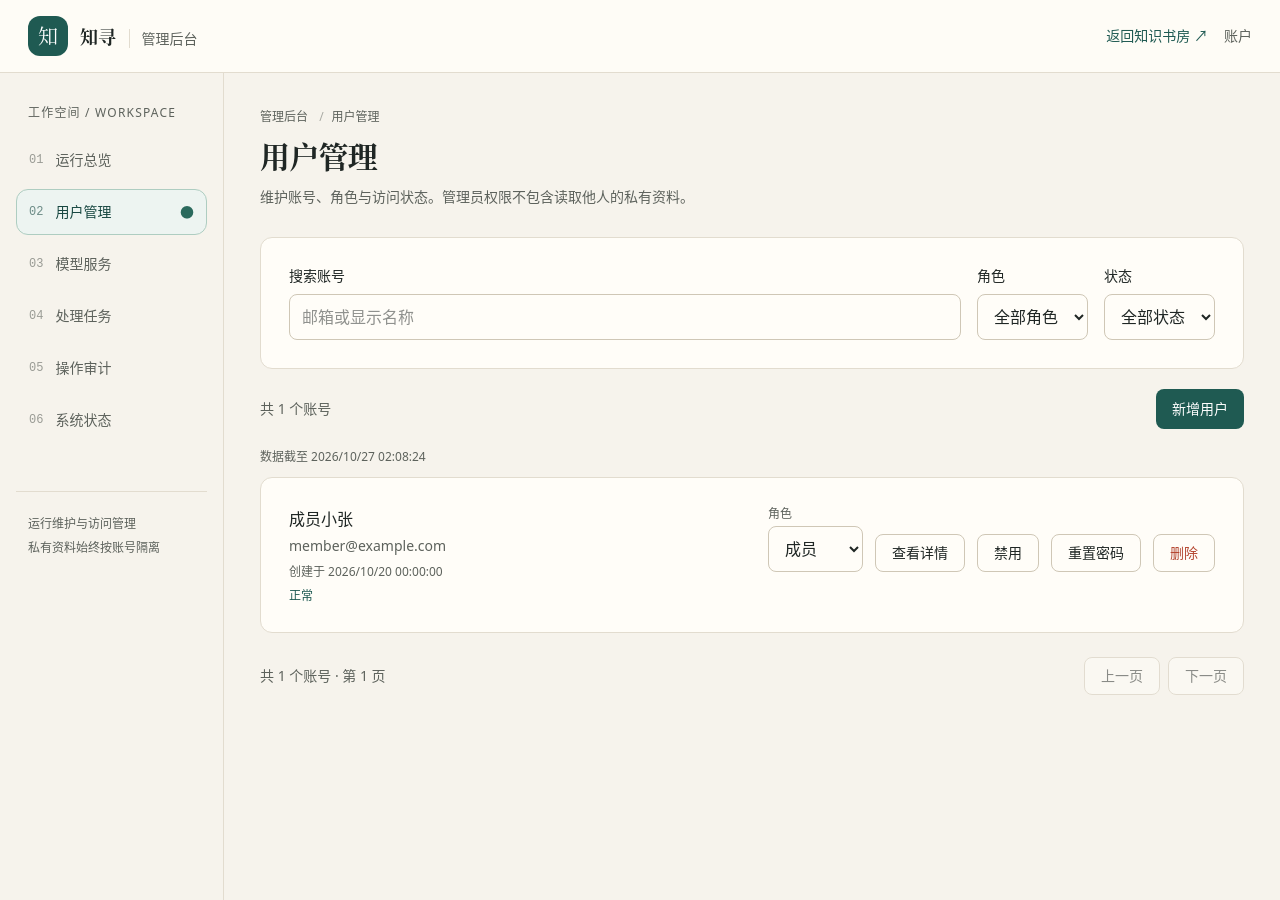
Scenario: 详情与撤销设备会话
Click the button with test id "admin-user-detail-open". click: (920, 553)
box: [875,534,965,572]
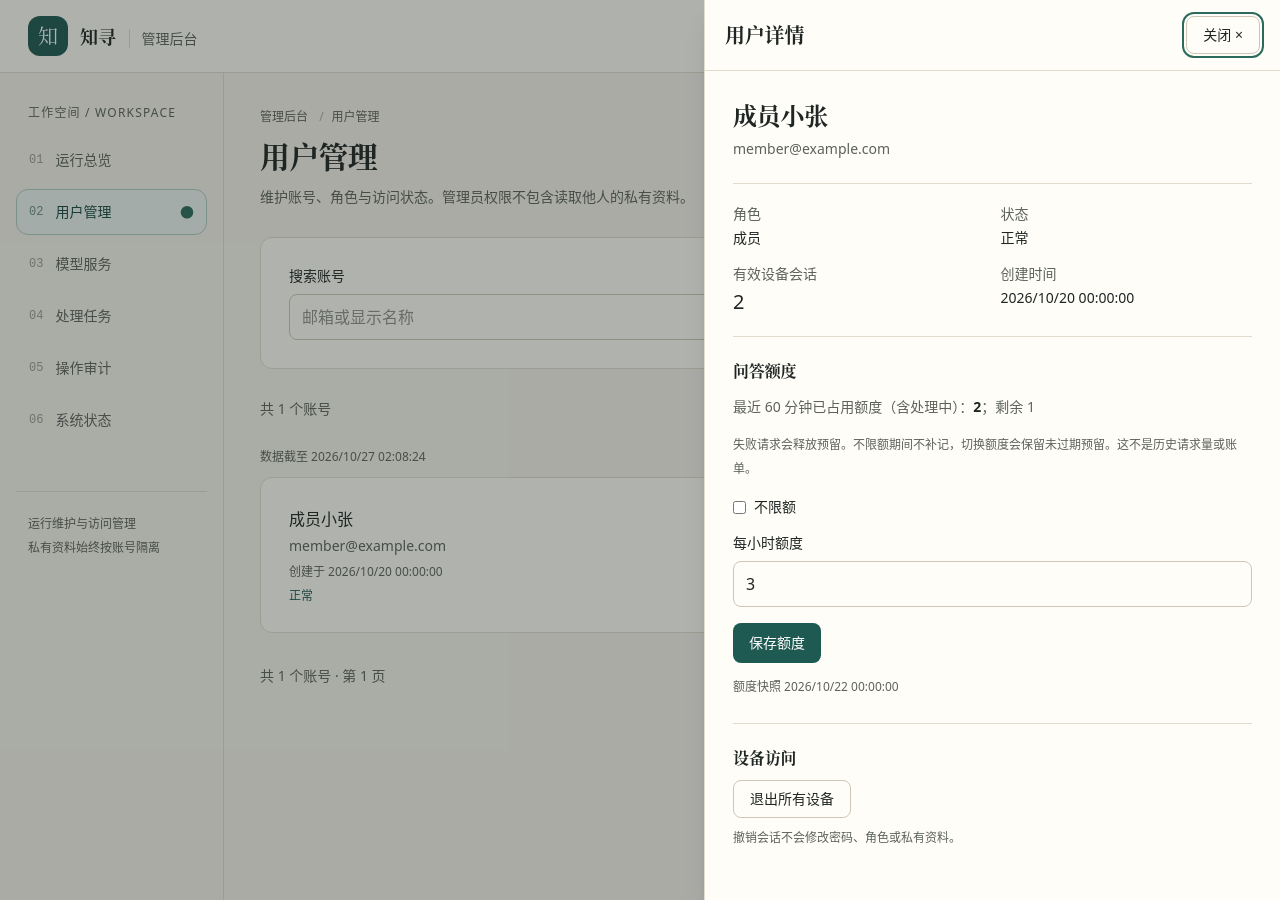
Expected: the text "已占用额度（含处理中）" is shown, [733,397,973,416]
Expected: the text with test id "admin-live-sessions" reads "2", [733,288,744,315]
Click the button with test id "admin-revoke-sessions". click: (792, 799)
box: [733,780,851,818]
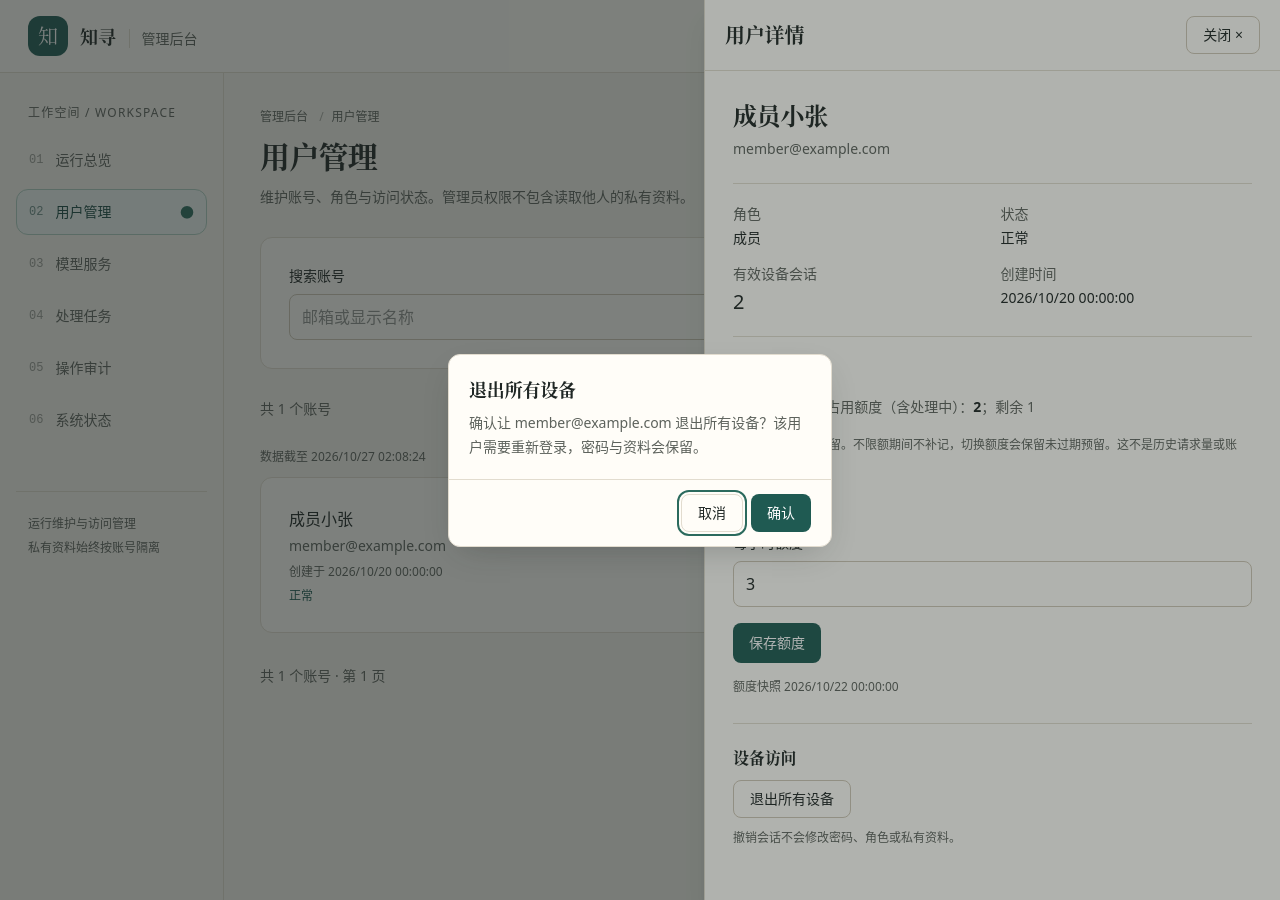
Click the button with test id "confirm-dialog-cancel-btn". click: (712, 512)
box: [681,494,743,532]
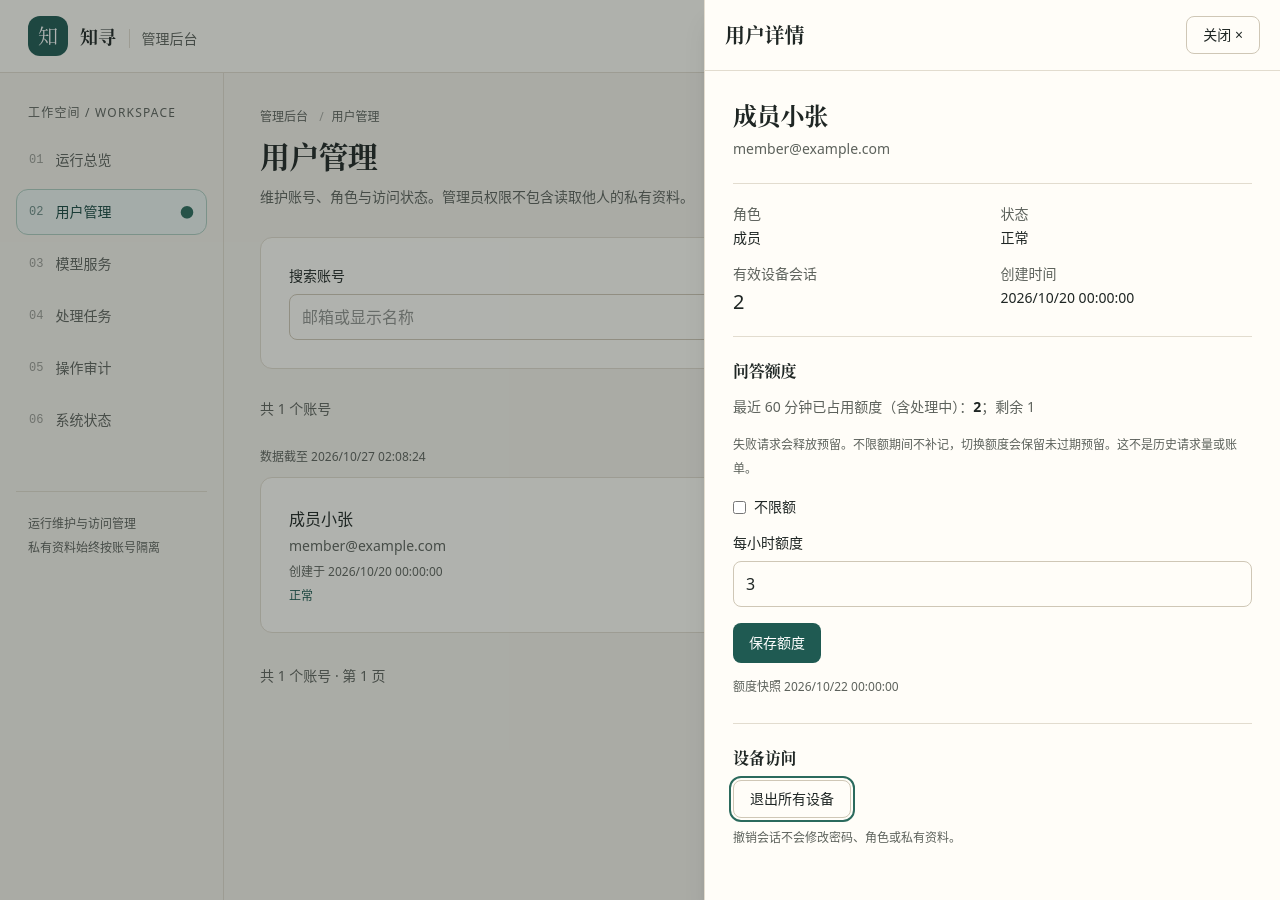
Click the button with test id "admin-revoke-sessions". click: (792, 799)
box: [733,780,851,818]
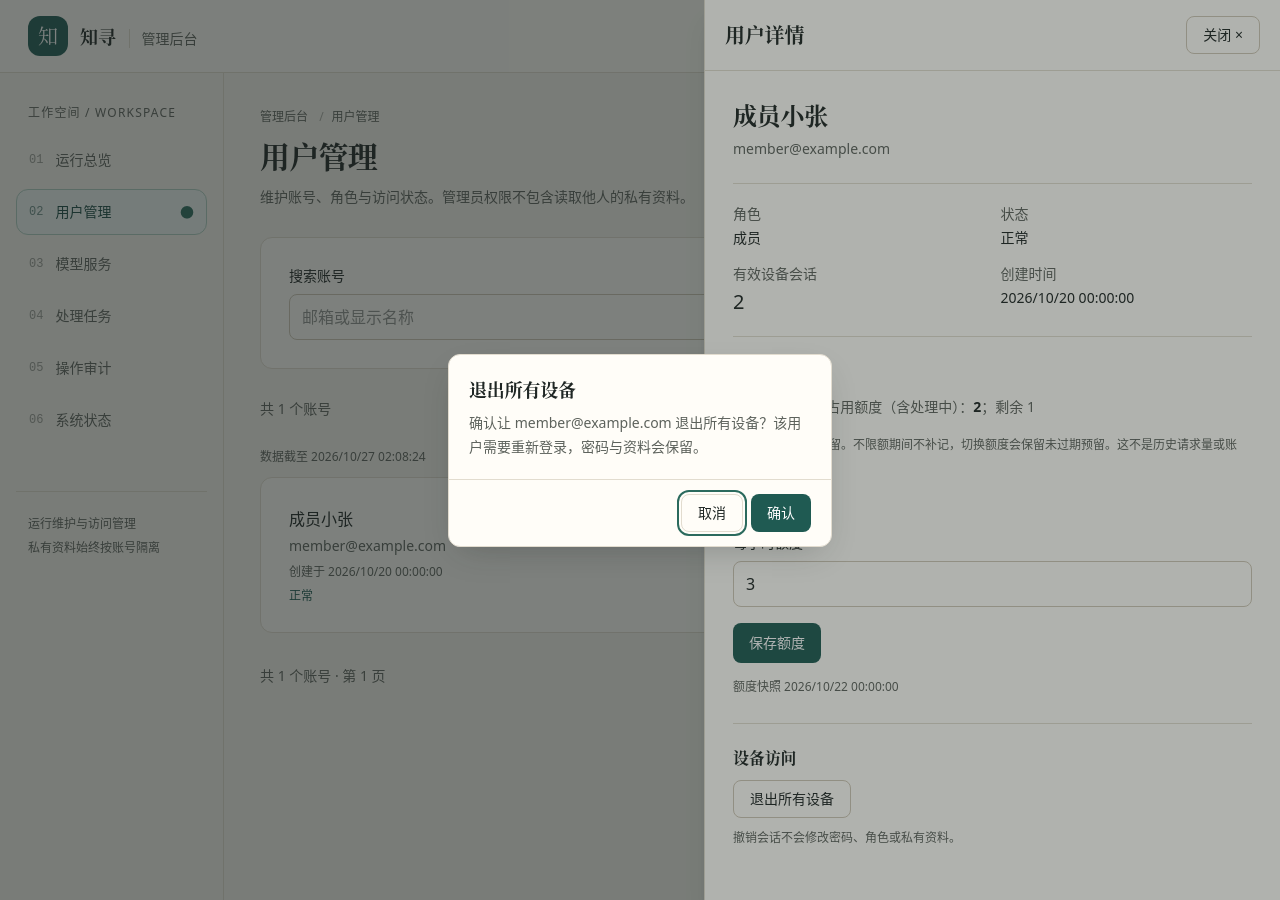
Click the button with test id "confirm-dialog-confirm-btn". click: (781, 512)
box: [751,494,811,532]
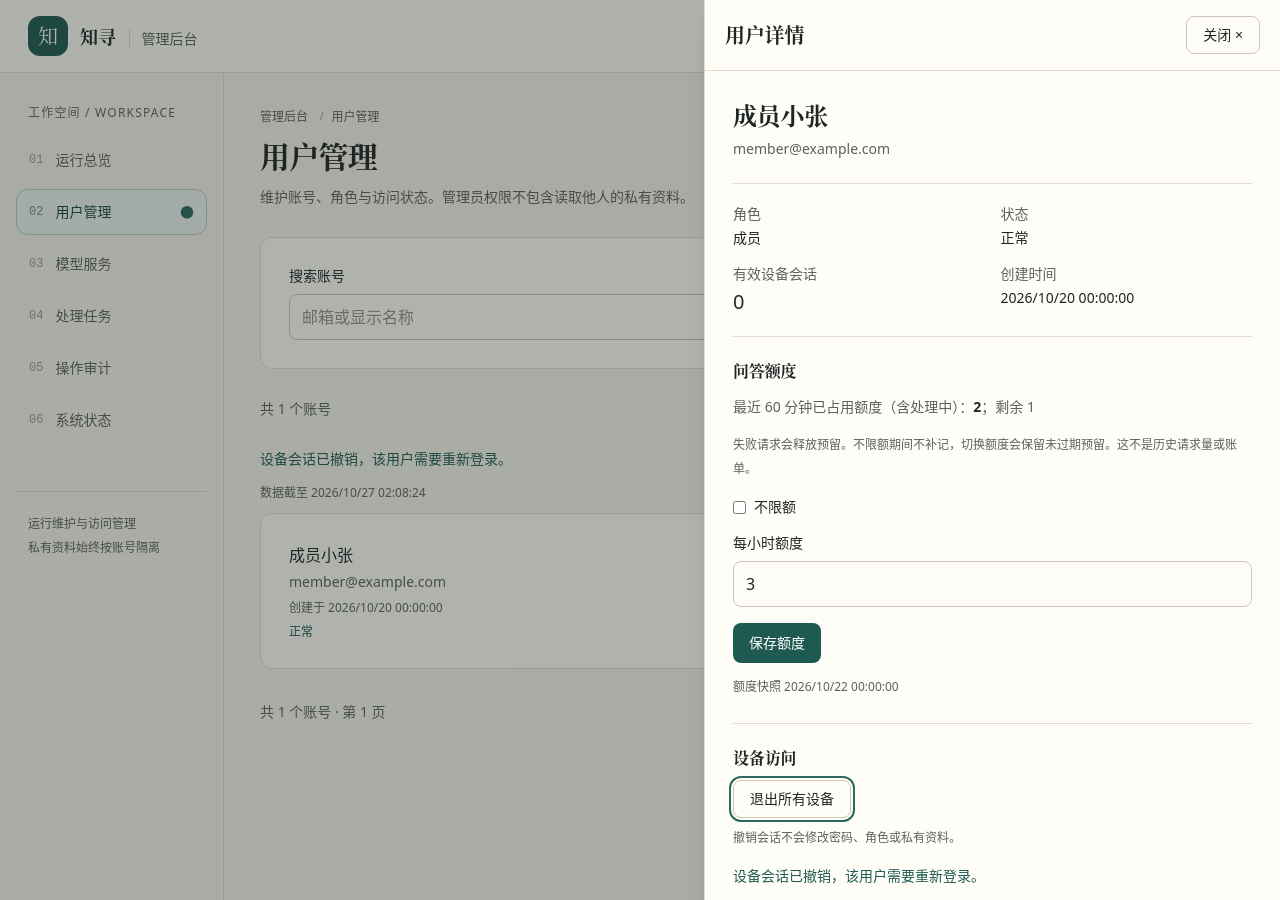
Expected: the text with test id "admin-live-sessions" reads "0", [733,288,744,315]
